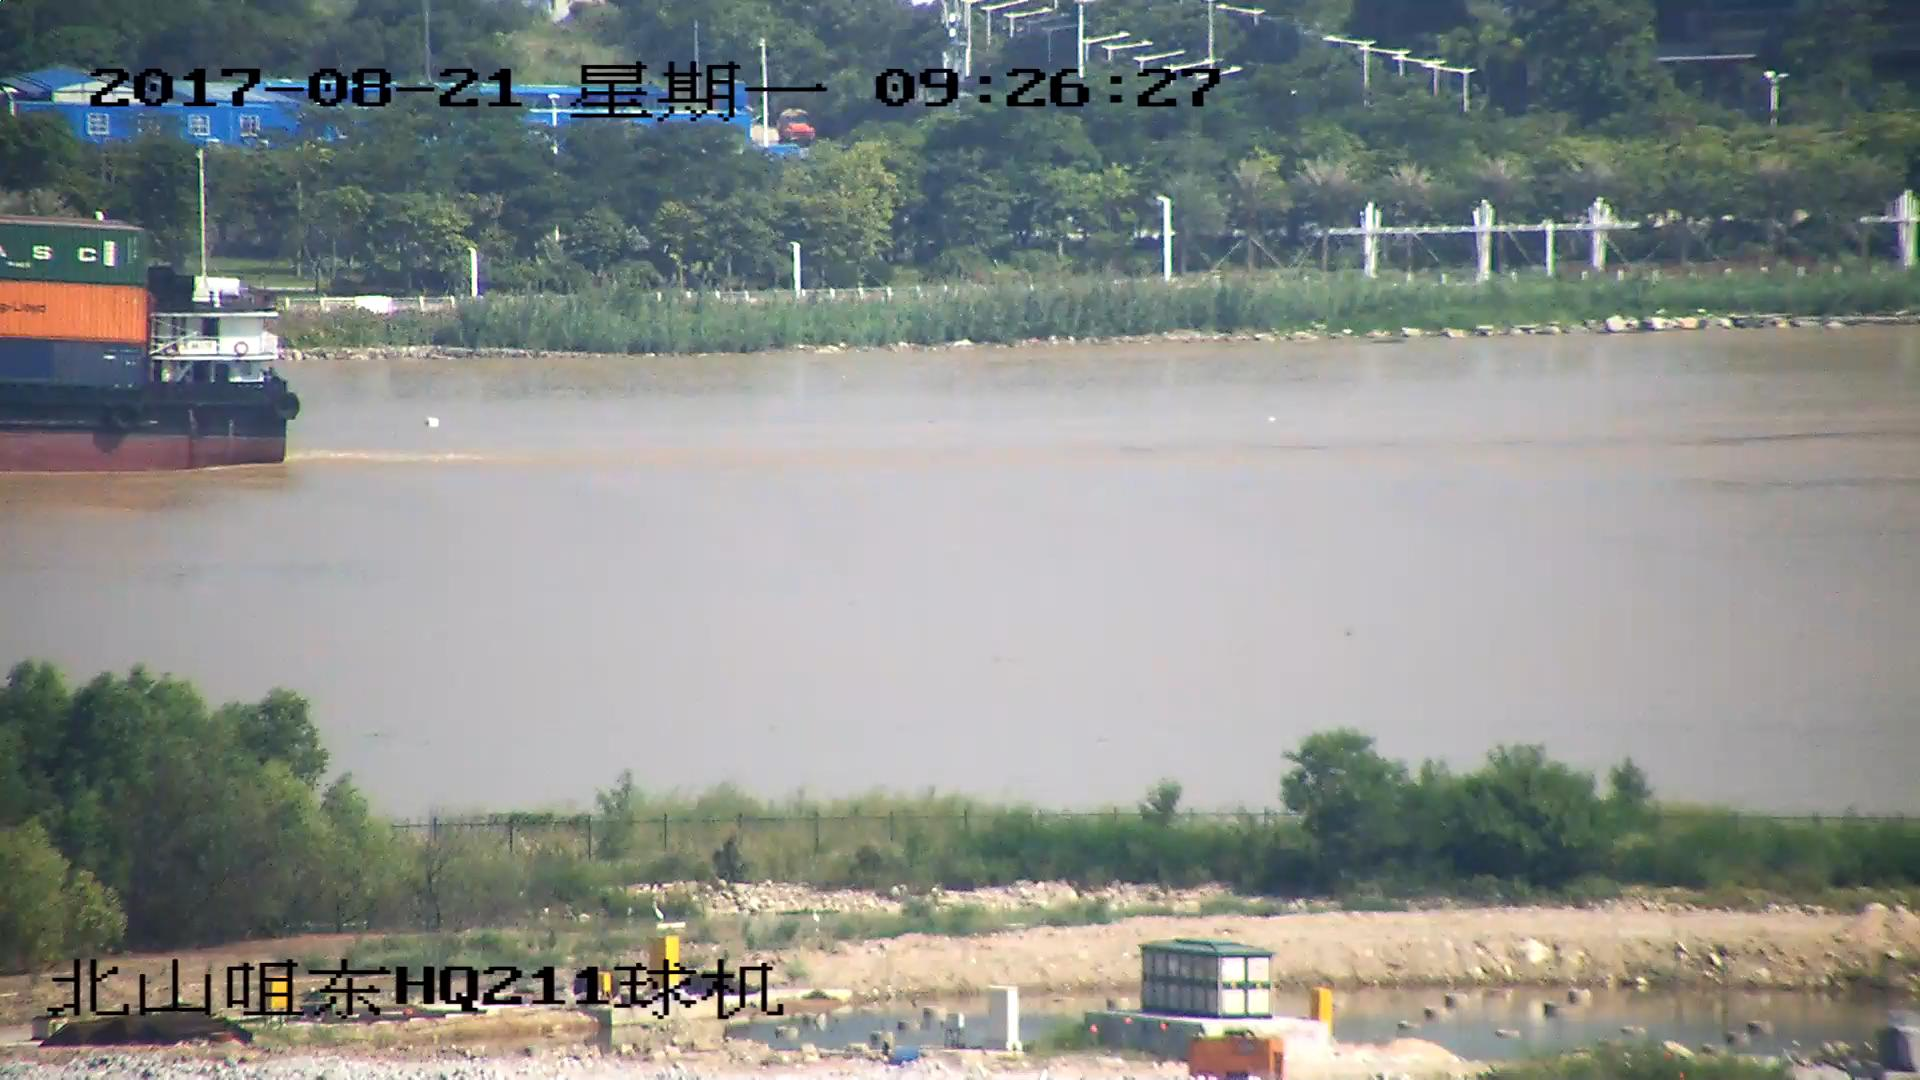container ship: (1, 162, 301, 471)
